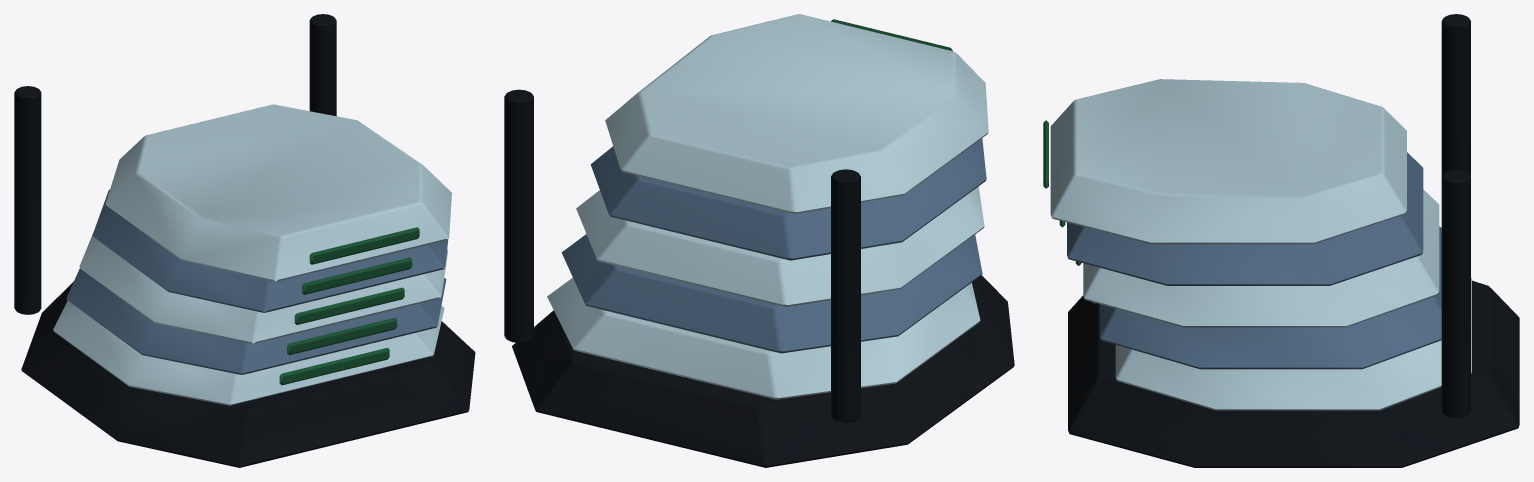
The model's file is Shield_Stack.fbx.
3 renders of one model, left to right at view 1: azimuth 30°, elevation 25°; view 2: azimuth 150°, elevation 25°; view 3: azimuth 270°, elevation 25°, orthographic. The views are drawn at different scales.
Parts seen in each view (by area): view 1: Shield_Stack; view 2: Shield_Stack; view 3: Shield_Stack.
Boxes of the visible parts, x1,y1,x2,y2 form: Shield_Stack: (14,14,475,467); Shield_Stack: (504,14,1014,467); Shield_Stack: (1043,14,1519,467).
Size of the model in its own units: 2.21 by 1.5 by 2.35.
